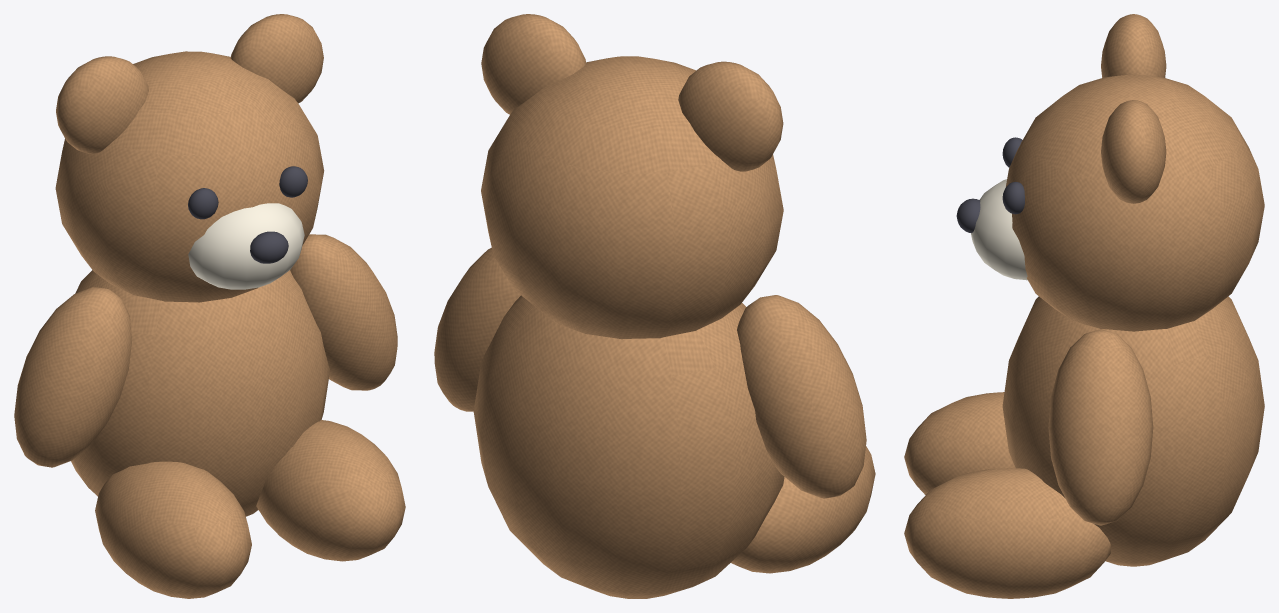
The model's file is prop_teddy.glb.
The picture shows the model from 3 angles, left to right: view 1: azimuth 30°, elevation 25°; view 2: azimuth 150°, elevation 25°; view 3: azimuth 270°, elevation 25°; orthographic projection. The views are drawn at different scales.
Parts seen in each view (by area): view 1: prop_teddy; view 2: prop_teddy; view 3: prop_teddy.
Part boxes in pixels (x1,y1,x2,y2): prop_teddy: (14, 14, 405, 598); prop_teddy: (434, 14, 875, 598); prop_teddy: (904, 14, 1264, 598).
Bounding box in the file's own units: 0.3334 × 0.415 × 0.275.
Materials: 3 (1 with a texture image).
